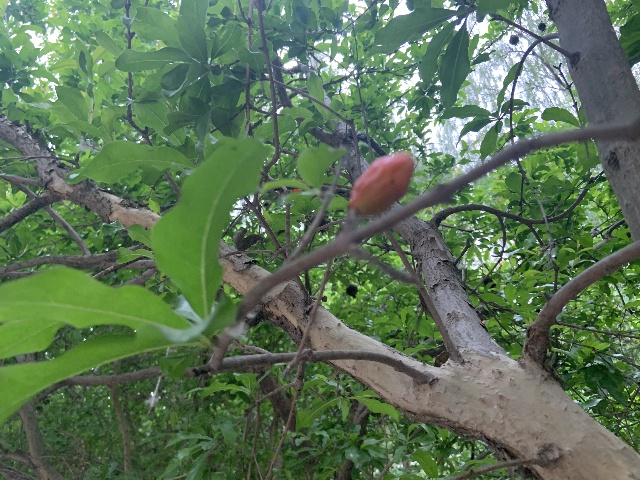bud: (349, 151, 413, 215)
